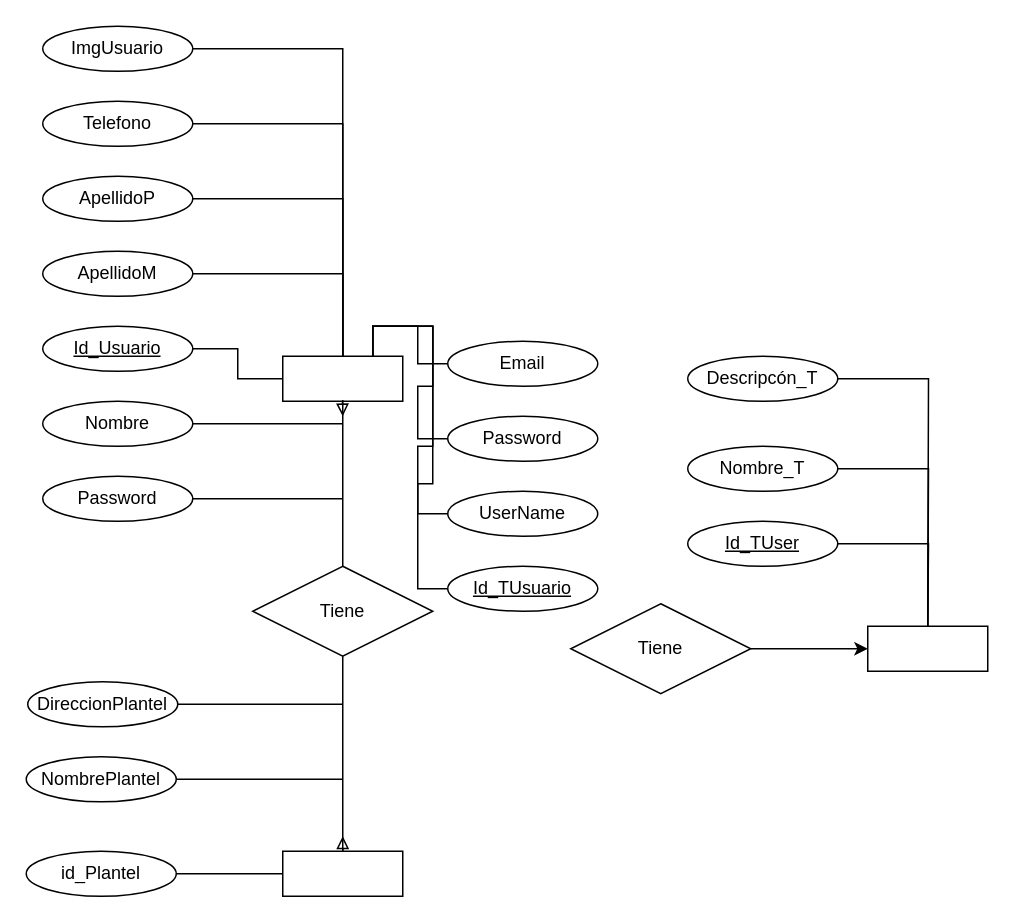
Image size: 1014x923. Some labels were removed from this diagram. The shapes that lost their labels are listed below. From the top down, each one's centre as x and y in pixels, then its label:
point (342, 378): Usuario
point (927, 648): Tipo_User
point (342, 873): Plantel
